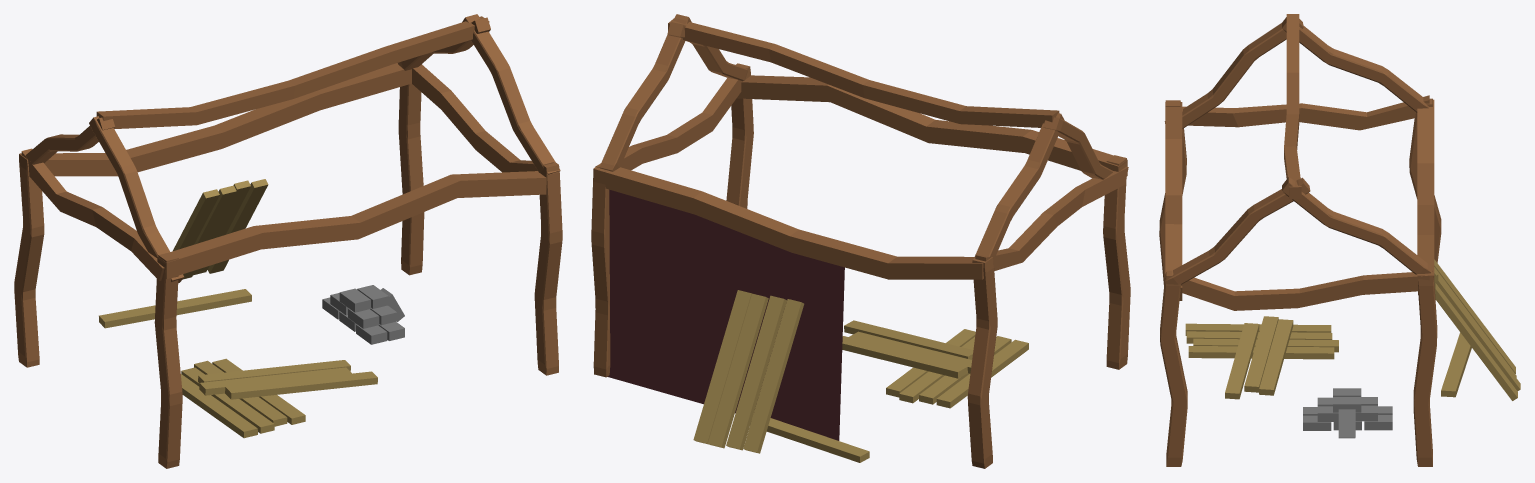
The model's file is ploydestroyhouse.fbx.
3 views of the same model, side by side, from view 1: azimuth 30°, elevation 25°; view 2: azimuth 150°, elevation 25°; view 3: azimuth 270°, elevation 25° (orthographic). The views are drawn at different scales.
Parts seen in each view (by area): view 1: Cube.004, Cube.005, Cube.012, Cube, Cube.003, Cube.002, Cube.001, Cube.007, Cube.006, Cube.011, Cube.009, Cube.018 (+13 smaller); view 2: Plane, Cube.005, Cube.004, Cube.012, Cube.002, Cube.003, Cube.001, Cube.007, Cube.010, Cube.006, Cube.008, Cube.021 (+14 smaller); view 3: Cube.006, Cube.007, Cube, Cube.001, Cube.004, Cube.005, Cube.010, Cube.011, Cube.008, Cube.012, Cube.009, Cube.023 (+15 smaller).
Part boxes in pixels (left/top/right/bottom): Cube.004: left=157, top=171, right=546, bottom=279; Cube.005: left=20, top=63, right=422, bottom=176; Cube.012: left=96, top=16, right=489, bottom=128; Cube: left=534, top=162, right=562, bottom=375; Cube.003: left=154, top=252, right=182, bottom=468; Cube.002: left=14, top=153, right=44, bottom=367; Cube.001: left=398, top=83, right=424, bottom=275; Cube.007: left=21, top=148, right=164, bottom=280; Cube.006: left=412, top=65, right=553, bottom=172; Cube.011: left=462, top=14, right=560, bottom=174; Cube.009: left=89, top=116, right=183, bottom=282; Cube.018: left=225, top=371, right=377, bottom=399; Plane: left=607, top=189, right=844, bottom=440; Cube.005: left=593, top=163, right=983, bottom=279; Cube.004: left=737, top=75, right=1127, bottom=175; Cube.012: left=668, top=18, right=1059, bottom=127; Cube.002: left=967, top=257, right=997, bottom=468; Cube.003: left=1103, top=155, right=1130, bottom=369; Cube.001: left=591, top=169, right=610, bottom=377; Cube.007: left=975, top=166, right=1128, bottom=270; Cube.010: left=599, top=14, right=691, bottom=171; Cube.006: left=595, top=66, right=746, bottom=170; Cube.008: left=974, top=113, right=1064, bottom=258; Cube.021: left=726, top=295, right=786, bottom=450; Cube.006: left=1172, top=270, right=1429, bottom=310; Cube.007: left=1182, top=95, right=1429, bottom=130; Cube: left=1160, top=270, right=1187, bottom=466; Cube.001: left=1413, top=270, right=1437, bottom=466; Cube.004: left=1165, top=102, right=1182, bottom=300; Cube.005: left=1417, top=99, right=1434, bottom=283; Cube.010: left=1282, top=177, right=1430, bottom=274; Cube.011: left=1164, top=177, right=1310, bottom=284; Cube.008: left=1282, top=17, right=1429, bottom=112; Cube.012: left=1284, top=14, right=1301, bottom=199; Cube.009: left=1164, top=19, right=1303, bottom=128; Cube.023: left=1434, top=283, right=1517, bottom=400.
Bounding box in the file's own units: 544 × 419 × 467.
